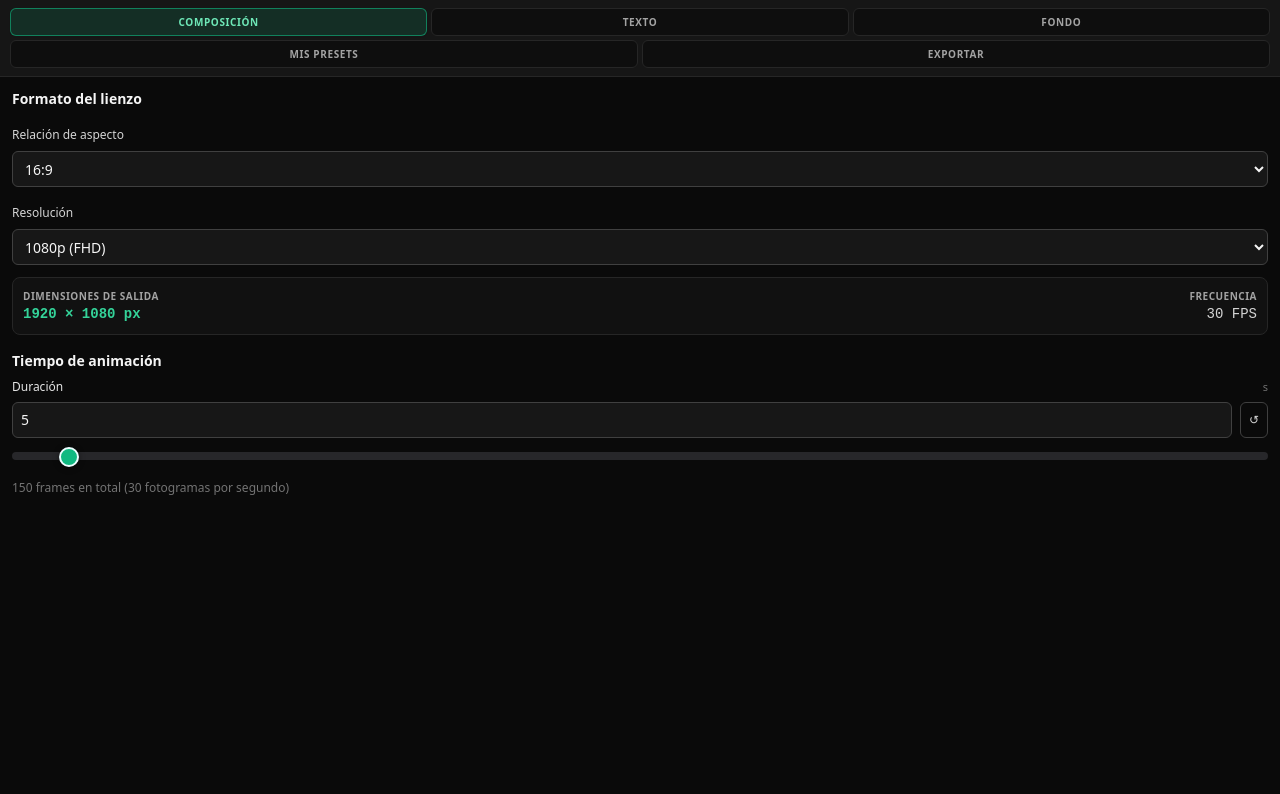
Test case: batch text input placement › expone las líneas para lote en Texto y no dentro de Exportar
What coordinates should you click on to do the following:
click the tab "Exportar"
I would click on:
 (956, 54)
Its box is x1=642 y1=40 x2=1270 y2=68.
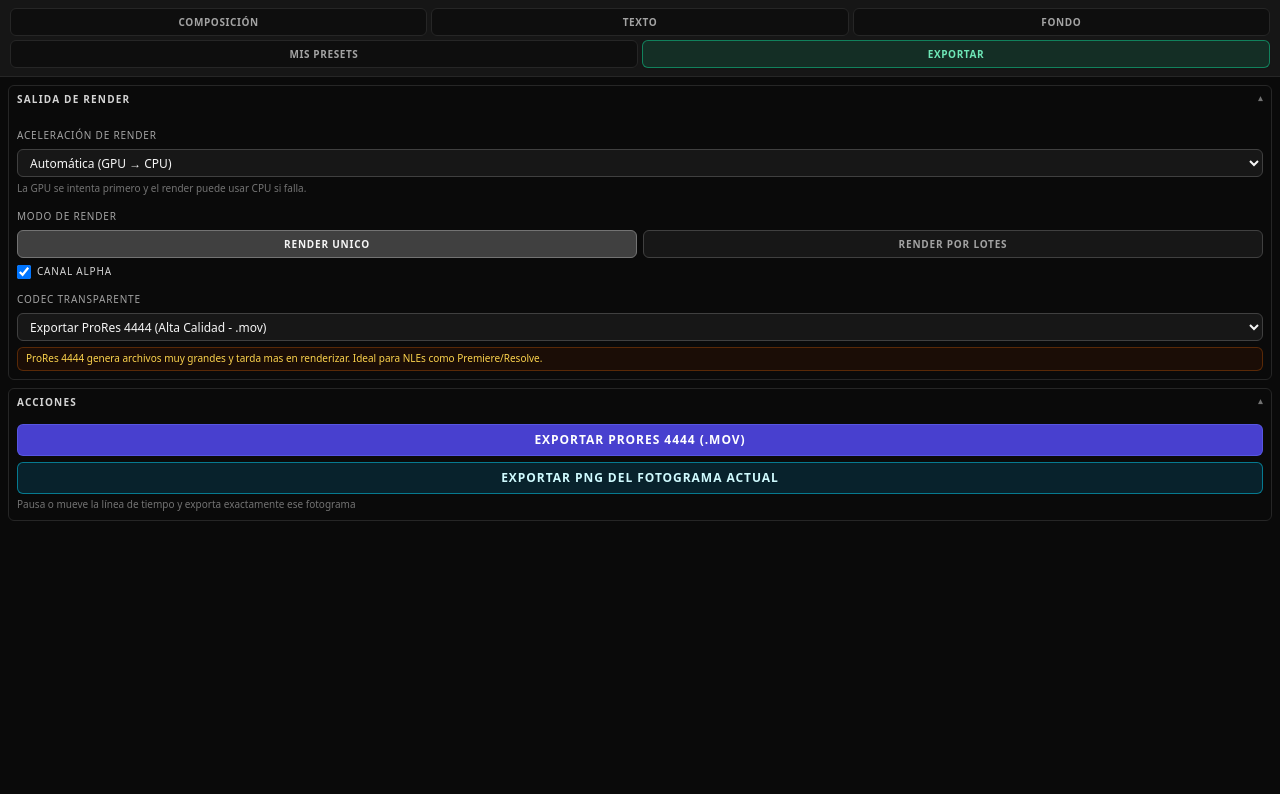
What coordinates should you click on to do the following:
click the button "Render por Lotes"
I would click on:
 (953, 244)
Its box is x1=643 y1=230 x2=1263 y2=258.
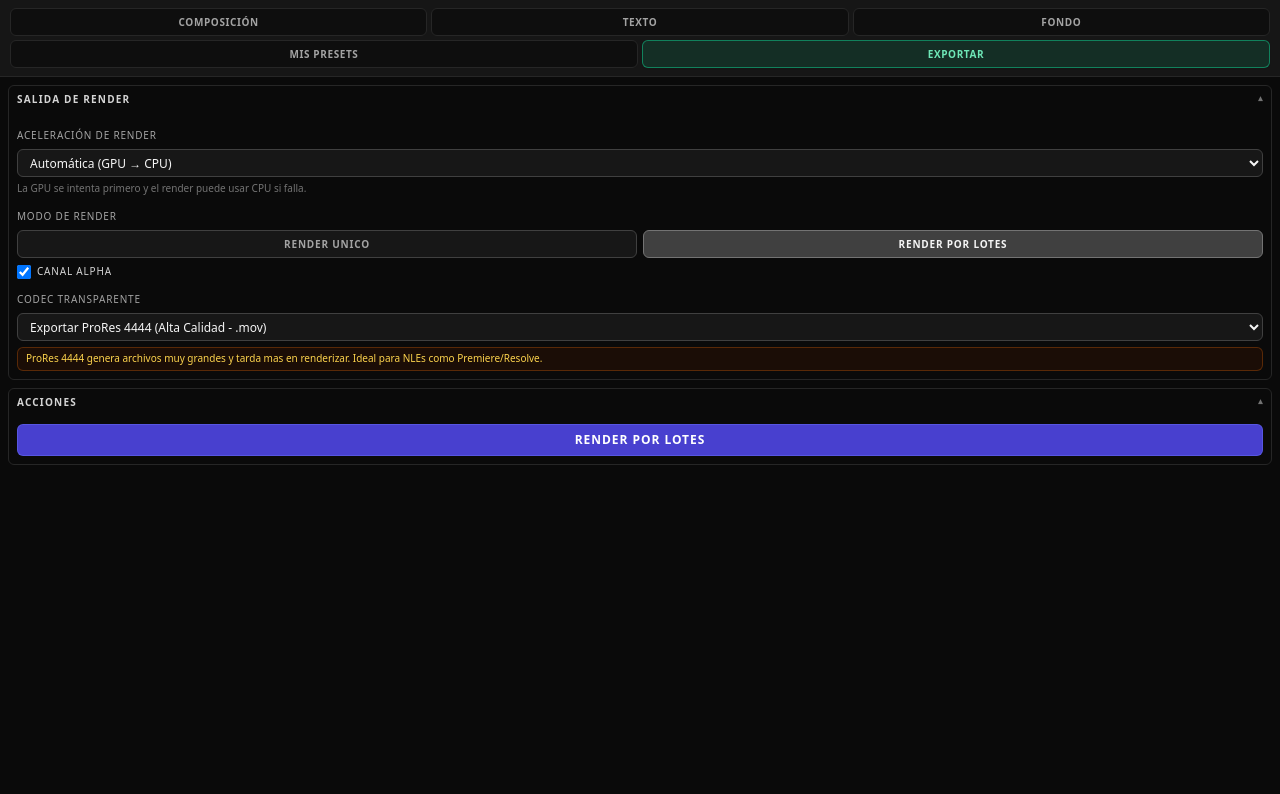
Expected: the field labelled "Líneas para lote" is not shown
What coordinates should you click on to do the following:
click the tab "Texto"
I would click on:
 (640, 22)
Its box is x1=431 y1=8 x2=849 y2=36.
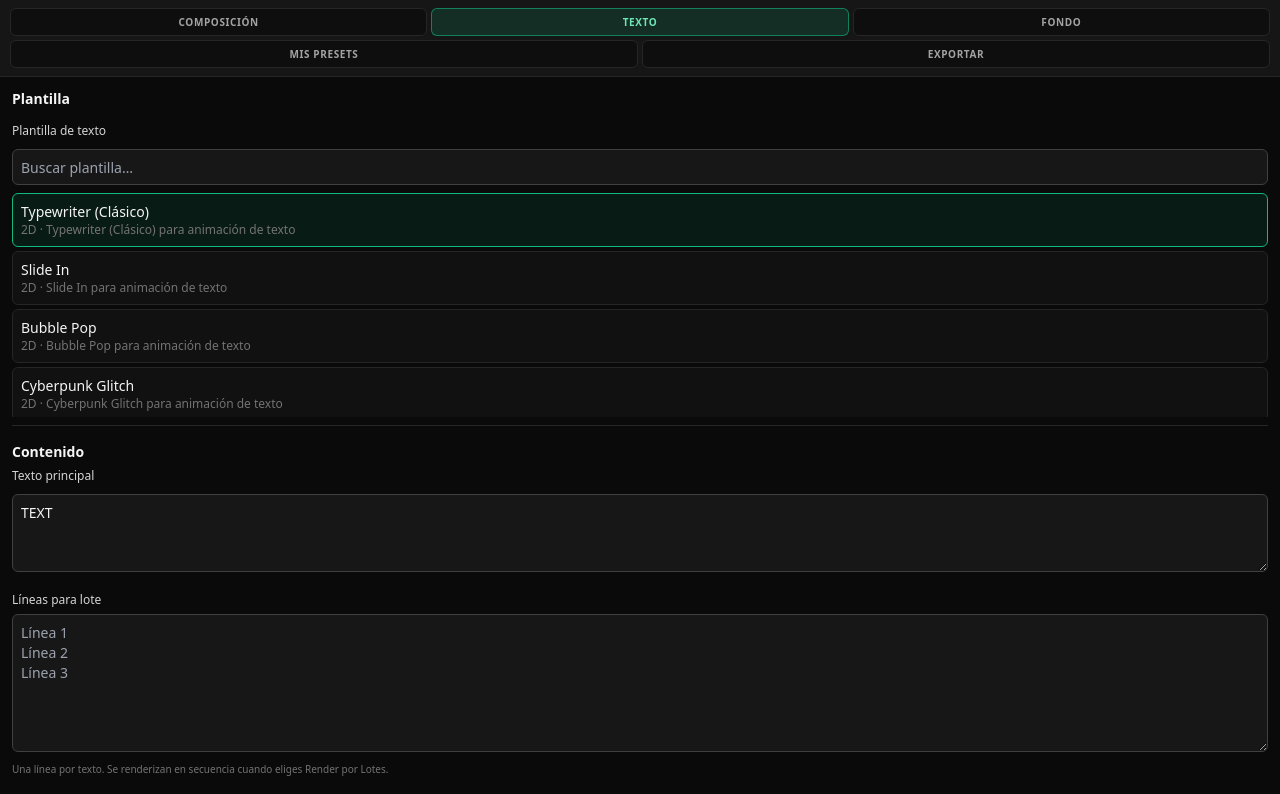
Expected: the text box labelled "Líneas para lote" is shown, x1=12 y1=614 x2=1268 y2=752
